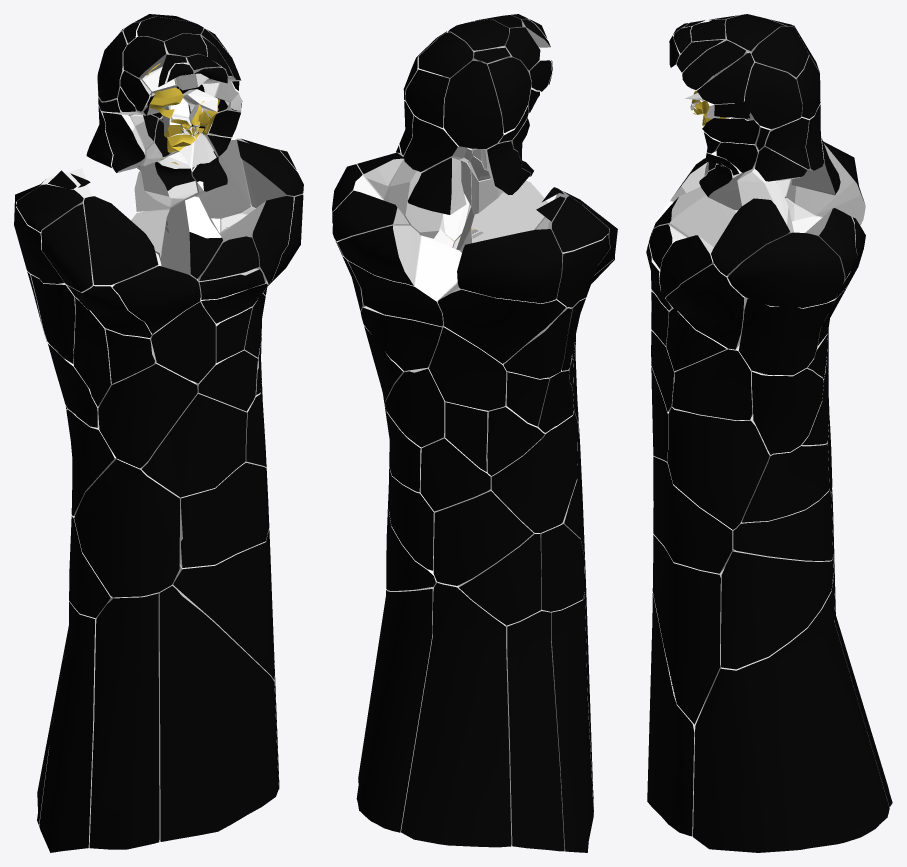
Rendered from Statue (1).fbx.
3 renders of one model, left to right at view 1: azimuth 30°, elevation 25°; view 2: azimuth 150°, elevation 25°; view 3: azimuth 270°, elevation 25°, orthographic. The views are drawn at different scales.
Visible parts, largest first — view 1: Statue.001_cell, Statue.001_cell.070, Statue.001_cell.100, Statue.001_cell.121, Statue.001_cell.125, Statue.001_cell.067, Statue.001_cell.018, Statue.001_cell.052, Statue.001_cell.063, Statue.001_cell.049, Statue.001_cell.086, Statue.001_cell.083 (+38 smaller); view 2: Statue.001_cell.062, Statue.001_cell.090, Statue.001_cell.142, Statue.001_cell.121, Statue.001_cell.040, Statue.001_cell.038, Statue.001_cell.127, Statue.001_cell.014, Statue.001_cell.045, Statue.001_cell.117, Statue.001_cell.054, Statue.001_cell.023 (+37 smaller); view 3: Statue.001_cell.090, Statue.001_cell.089, Statue.001_cell.091, Statue.001_cell.125, Statue.001_cell, Statue.001_cell.113, Statue.001_cell.018, Statue.001_cell.079, Statue.001_cell.022, Statue.001_cell.088, Statue.001_cell.028, Statue.001_cell.034 (+34 smaller).
Boxes of the visible parts, x1,y1,x2,y2 form: Statue.001_cell: [158, 585, 278, 841]; Statue.001_cell.070: [89, 592, 159, 849]; Statue.001_cell.100: [74, 459, 179, 597]; Statue.001_cell.121: [39, 601, 96, 852]; Statue.001_cell.125: [171, 528, 274, 679]; Statue.001_cell.067: [141, 393, 246, 497]; Statue.001_cell.018: [179, 462, 269, 567]; Statue.001_cell.052: [98, 361, 197, 468]; Statue.001_cell.063: [84, 196, 158, 284]; Statue.001_cell.049: [151, 301, 215, 383]; Statue.001_cell.086: [112, 266, 200, 333]; Statue.001_cell.083: [161, 196, 222, 279]; Statue.001_cell.062: [401, 582, 511, 847]; Statue.001_cell.090: [356, 586, 433, 832]; Statue.001_cell.142: [505, 609, 564, 851]; Statue.001_cell.121: [549, 592, 593, 852]; Statue.001_cell.040: [457, 229, 561, 303]; Statue.001_cell.038: [491, 411, 577, 532]; Statue.001_cell.127: [433, 486, 533, 585]; Statue.001_cell.014: [438, 283, 565, 363]; Statue.001_cell.045: [348, 236, 461, 326]; Statue.001_cell.117: [458, 532, 541, 625]; Statue.001_cell.054: [429, 326, 507, 410]; Statue.001_cell.023: [444, 61, 503, 148]; Statue.001_cell.090: [693, 574, 889, 852]; Statue.001_cell.089: [720, 550, 833, 669]; Statue.001_cell.091: [667, 407, 769, 529]; Statue.001_cell.125: [652, 534, 724, 724]; Statue.001_cell: [647, 593, 706, 836]; Statue.001_cell.113: [727, 232, 844, 307]; Statue.001_cell.018: [653, 456, 734, 573]; Statue.001_cell.079: [738, 298, 835, 375]; Statue.001_cell.022: [752, 368, 823, 454]; Statue.001_cell.088: [741, 443, 829, 522]; Statue.001_cell.028: [672, 344, 752, 420]; Statue.001_cell.034: [733, 489, 832, 560].
Size of the model in its own units: 57.22 by 168 by 45.75.
